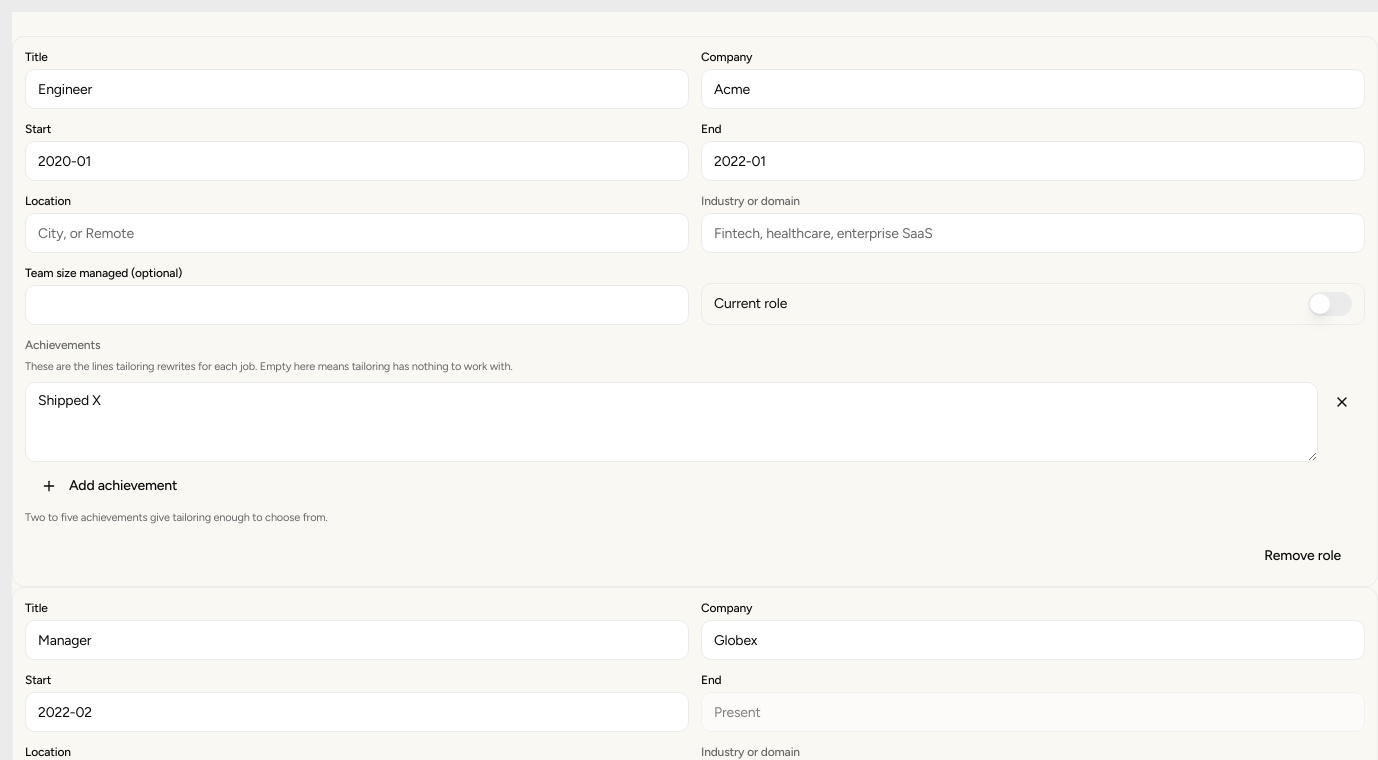
it: ExperienceCard memoization › bullets: edit, add, remove; current-role switch; blur queues a save
This screenshot has width=1378, height=760.
Replace the text in the text box showing "Shipped X" with "Shipped X faster" at (672,422), box [25,382,1318,462]
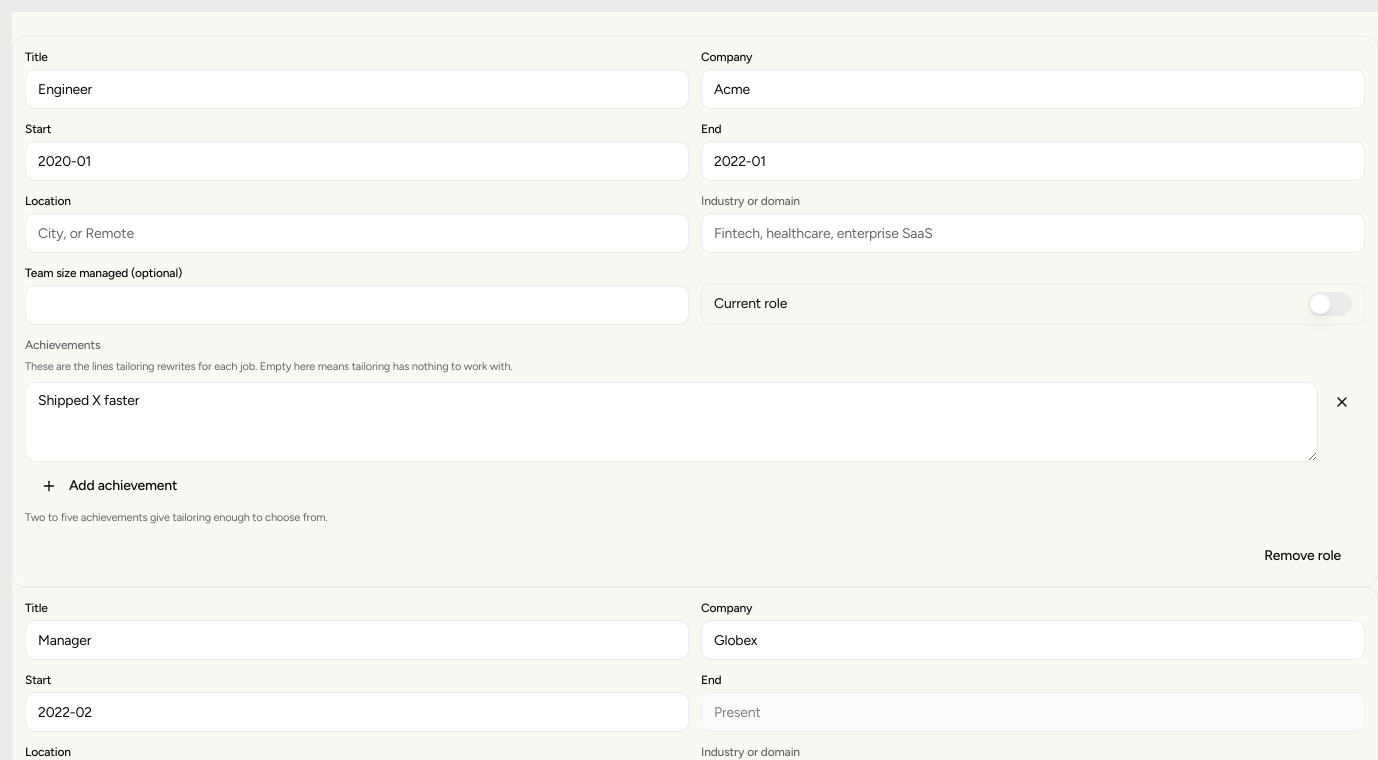
Click the button "Add achievement".
click(113, 486)  # box [25,468,201,504]
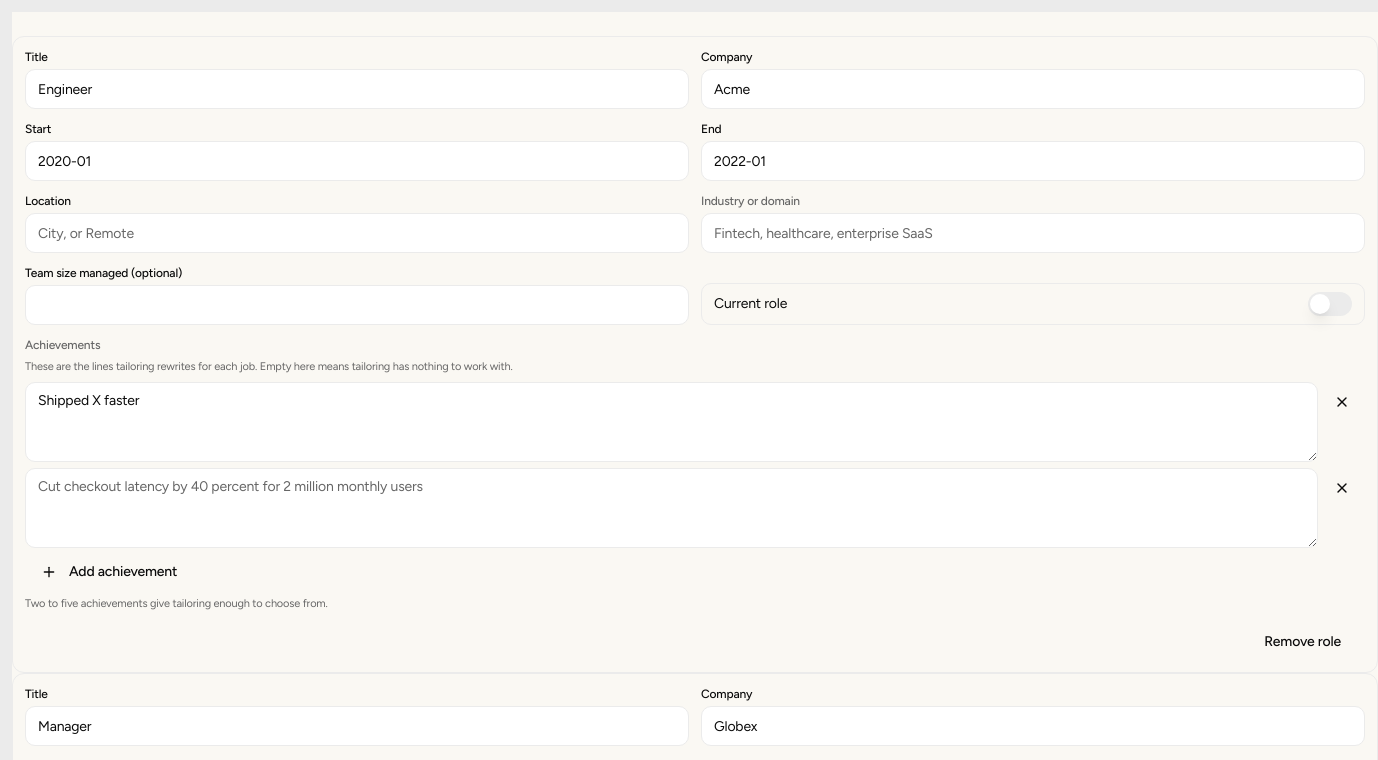
Now the number of text boxes with placeholder "checkout latency" is 5
